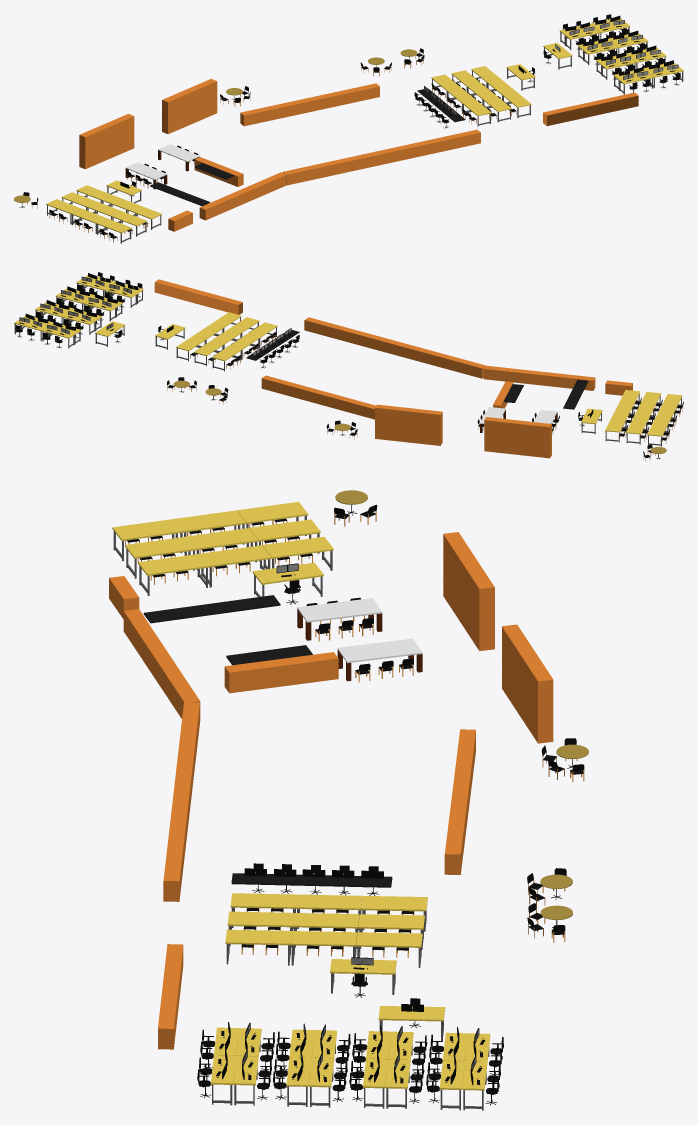
Rendered from 3rdFLR_Left.fbx.
The picture shows the model from 3 angles, top to bottom: view 1: azimuth 30°, elevation 25°; view 2: azimuth 150°, elevation 25°; view 3: azimuth 270°, elevation 25°; orthographic projection. The views are drawn at different scales.
Visible parts, largest first — view 1: 3rdFLRSideRoom3, 3rdFLRSideRomm1, Object962; view 2: 3rdFLRSideRoom3, 3rdFLRSideRomm1, Object962; view 3: 3rdFLRSideRoom3, 3rdFLRSideRomm1, Object962.
Boxes of the visible parts, x1=… form: 3rdFLRSideRoom3: x1=14, y1=79, x2=286, y2=243; 3rdFLRSideRomm1: x1=360, y1=14, x2=683, y2=126; Object962: x1=220, y1=83, x2=480, y2=185; 3rdFLRSideRoom3: x1=375, y1=365, x2=683, y2=461; 3rdFLRSideRomm1: x1=14, y1=272, x2=277, y2=404; Object962: x1=246, y1=317, x2=485, y2=439; 3rdFLRSideRoom3: x1=109, y1=490, x2=553, y2=743; 3rdFLRSideRomm1: x1=158, y1=868, x2=572, y2=1110; Object962: x1=163, y1=702, x2=588, y2=901.
Bounding box in the file's own units: 4975 × 241 × 1672.
